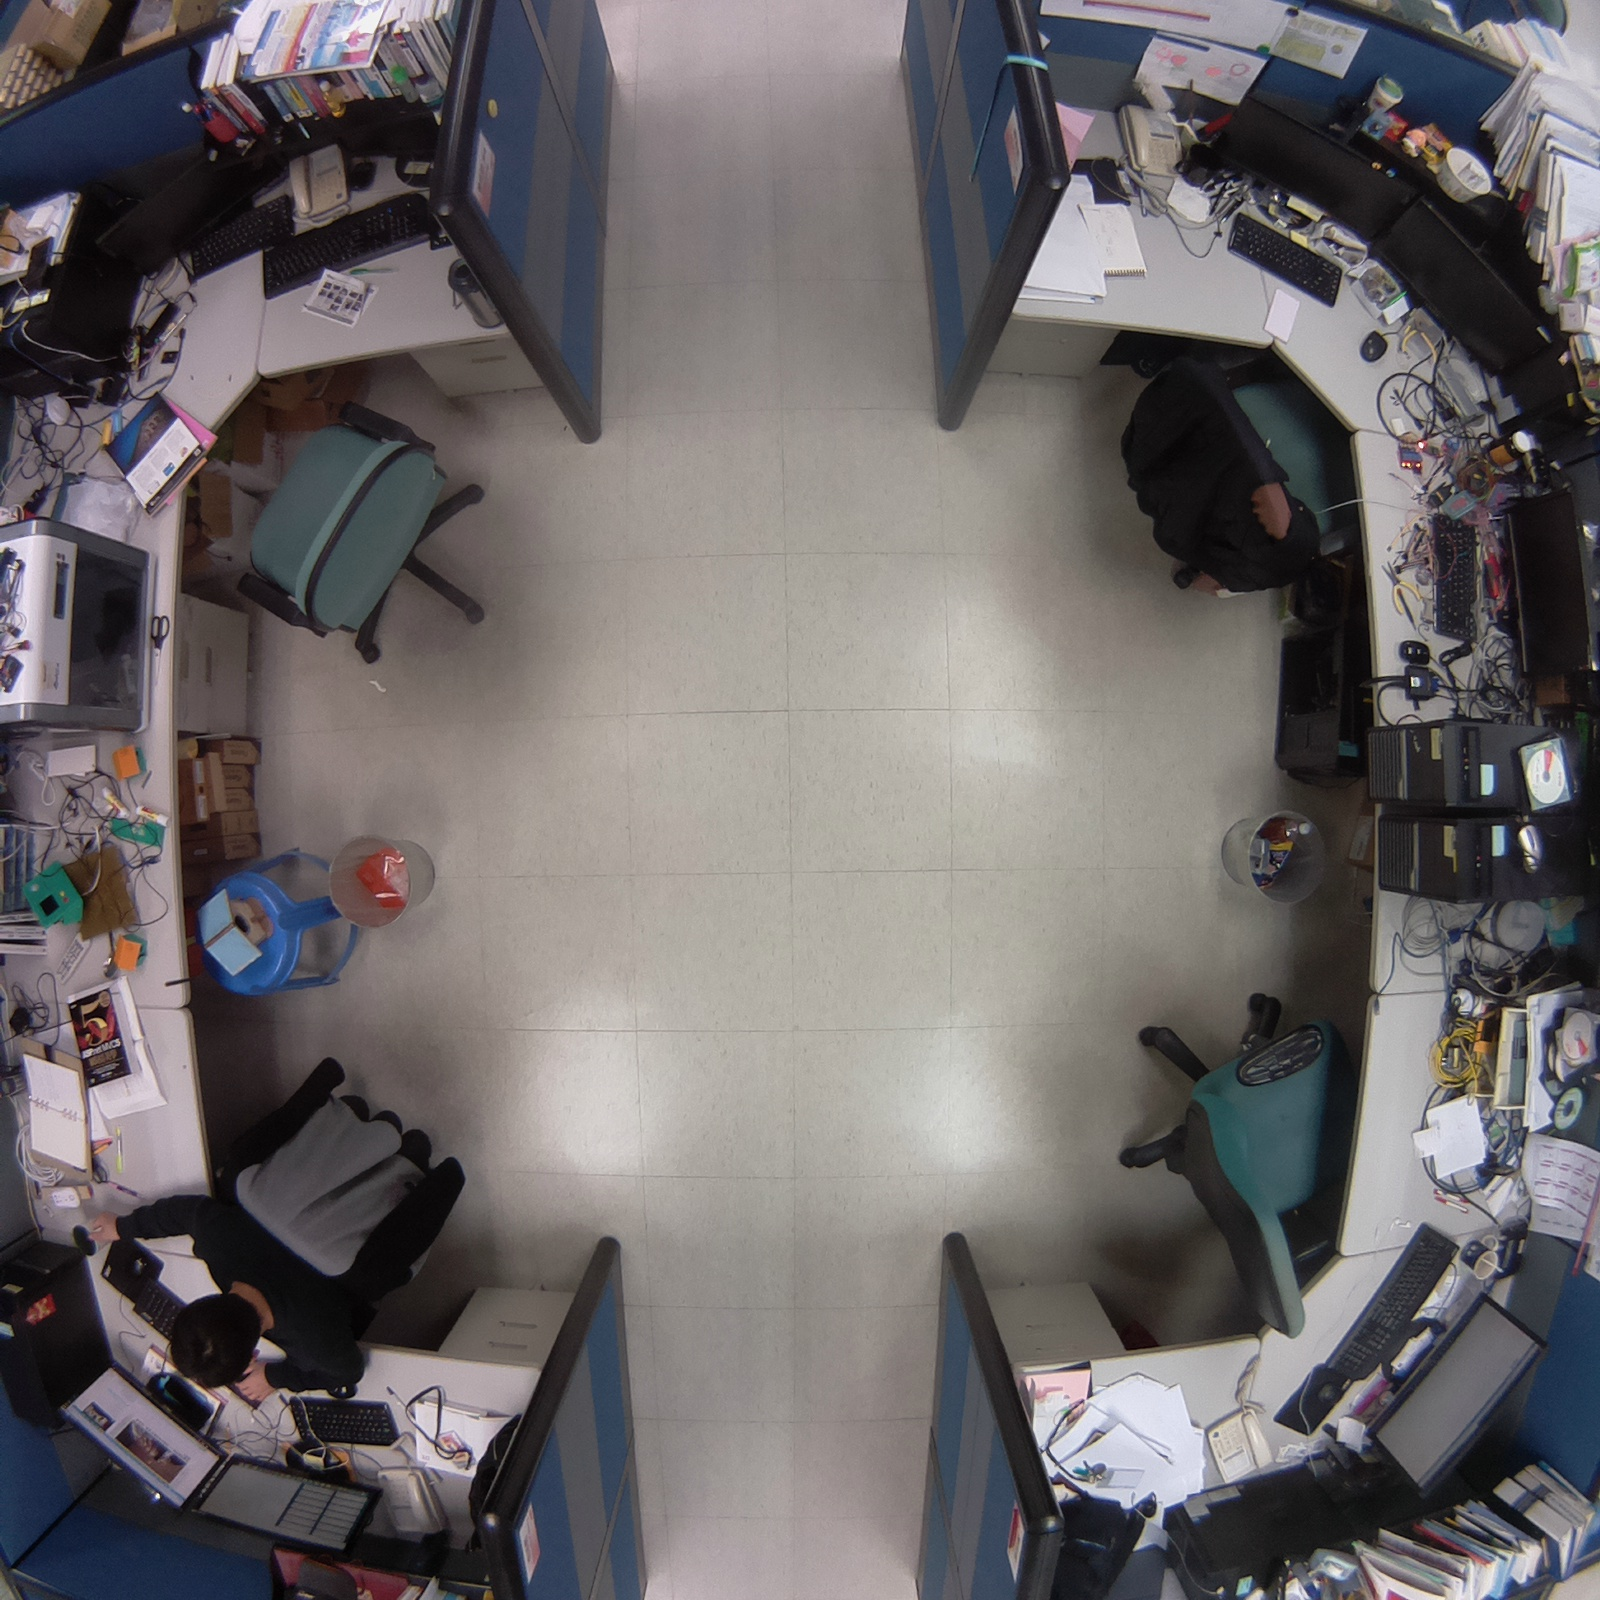chair: (1099, 958, 1368, 1360), (196, 386, 524, 699), (1109, 329, 1376, 614)
head: (161, 1291, 272, 1397)
sitting: (74, 1037, 488, 1411)
